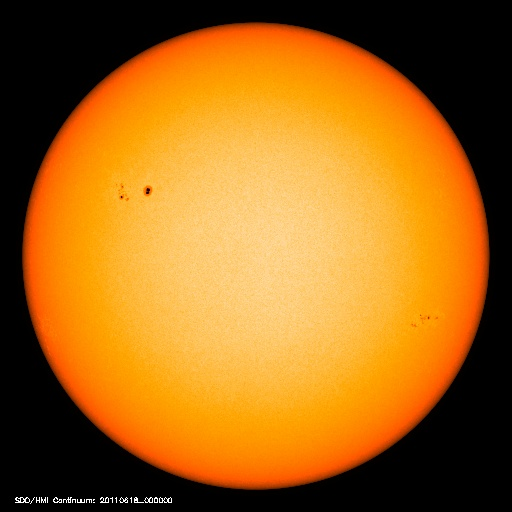sunspot: (109, 180, 158, 207), (402, 307, 449, 335)
